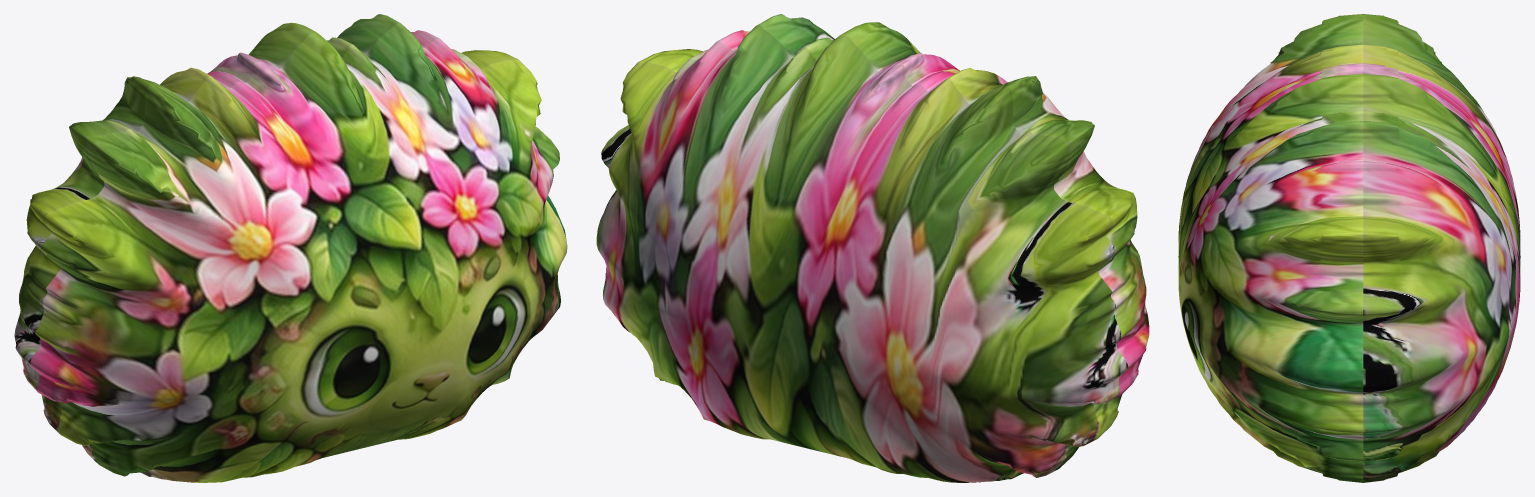
Rendered from floriss.glb.
The picture shows the model from 3 angles, left to right: view 1: azimuth 30°, elevation 25°; view 2: azimuth 150°, elevation 25°; view 3: azimuth 270°, elevation 25°; orthographic projection. The views are drawn at different scales.
Visible parts, largest first — view 1: bolinha; view 2: bolinha; view 3: bolinha.
Boxes of the visible parts, left/top/right/bottom form: bolinha: left=14, top=14, right=567, bottom=482; bolinha: left=596, top=14, right=1149, bottom=482; bolinha: left=1178, top=14, right=1520, bottom=482.
Size of the model in its own units: 0.9805 by 0.7461 by 0.6363.
Materials: 1 (1 with a texture image).
